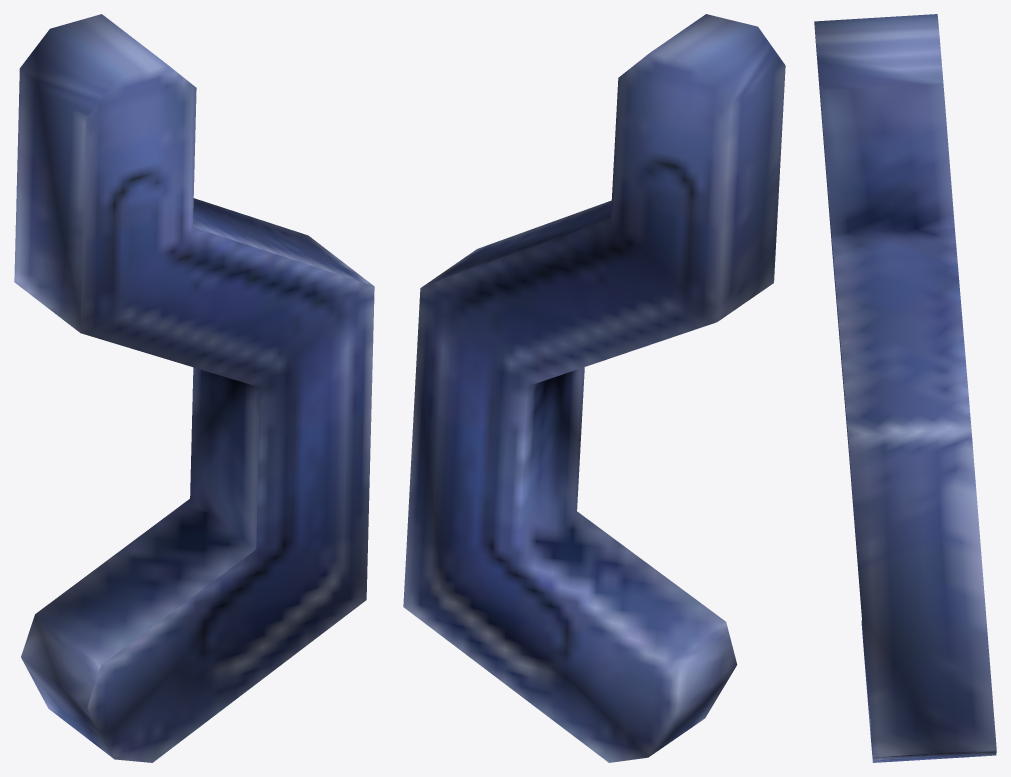
Rendered from Robot01.LeftHip2.fbx.
3 views of the same model, side by side, from view 1: azimuth 30°, elevation 25°; view 2: azimuth 150°, elevation 25°; view 3: azimuth 270°, elevation 25° (orthographic). The views are drawn at different scales.
Parts seen in each view (by area): view 1: Robot.021; view 2: Robot.021; view 3: Robot.021.
Boxes of the visible parts, box(x1,y1,x2,y2) form: Robot.021: box(14, 14, 374, 762); Robot.021: box(403, 14, 785, 762); Robot.021: box(814, 14, 996, 762).
Size of the model in its own units: 20.5 by 45.51 by 10.51.
